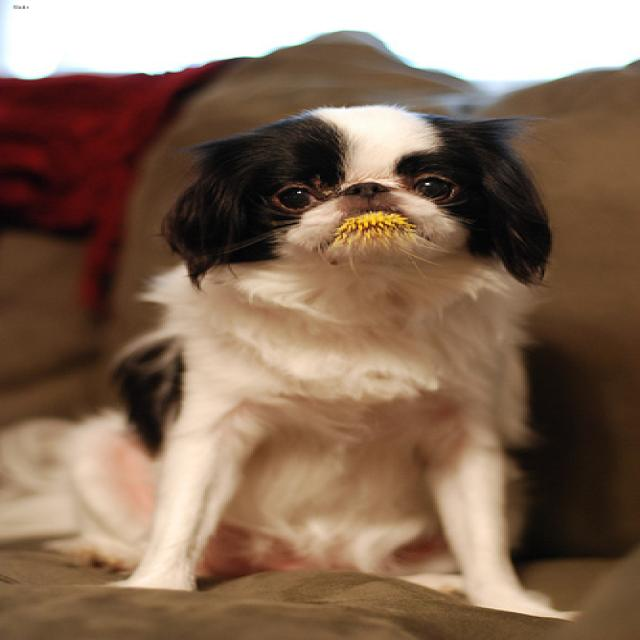dog-japanese_chin: (33, 90, 590, 632)
